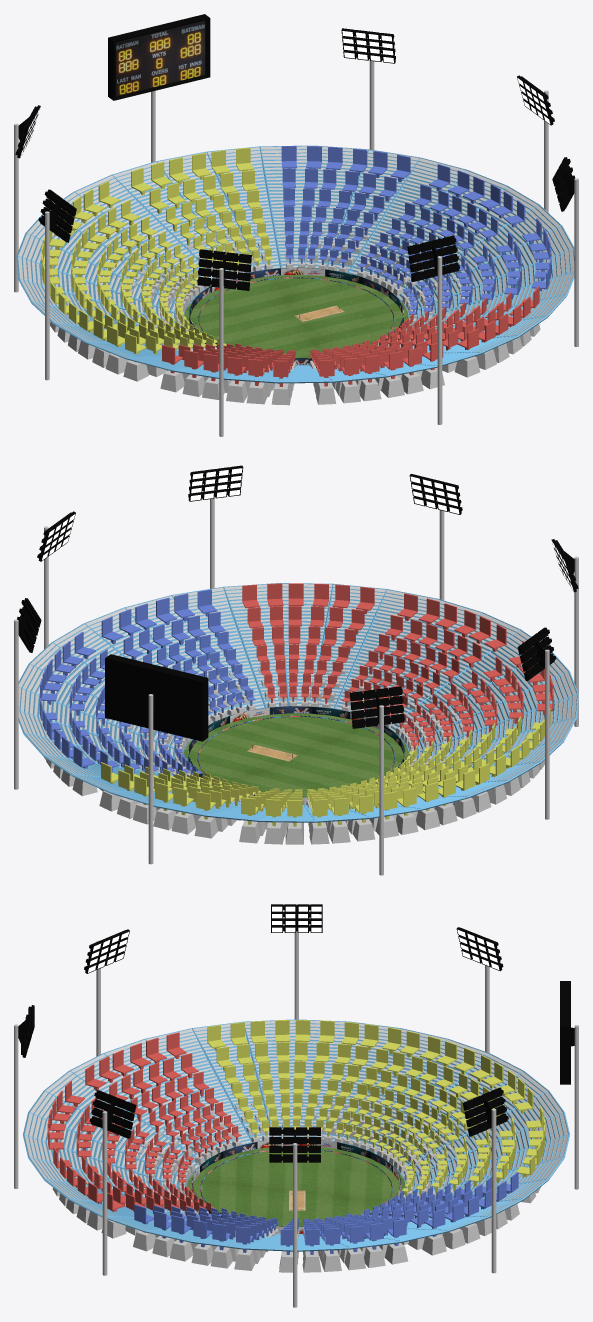
The model's file is cricket_stadium.glb.
The picture shows the model from 3 angles, top to bottom: view 1: azimuth 30°, elevation 25°; view 2: azimuth 150°, elevation 25°; view 3: azimuth 270°, elevation 25°; orthographic projection. The views are drawn at different scales.
Visible parts, largest first — view 1: Chairs, outer area.001, outer area, Ground .009, Cube, Cube.002, Cylinder, Cube.003, Cube.006, Cube.001, Ground .001, Cube.005 (+7 smaller); view 2: Chairs, outer area.001, outer area, Ground .009, Cube, Cube.007, Cube.004, Cylinder, Cube.003, Cube.001, Ground .005, Cube.005 (+7 smaller); view 3: Chairs, outer area.001, outer area, Ground .009, Cube.005, Cylinder, Cube.001, Cube.004, Cube.006, Cube, Cube.007, Cube.002 (+6 smaller).
Boxes of the visible parts, x1,y1,x2,y2 form: Chairs: (41,145,551,405); outer area.001: (16,145,574,383); outer area: (18,146,574,365); Ground .009: (184,275,408,365); Cube: (108,14,210,100); Cube.002: (197,249,251,290); Cylinder: (189,267,403,365); Cube.003: (407,235,459,281); Cube.006: (341,28,395,63); Cube.001: (38,189,76,242); Ground .001: (437,256,442,424); Cube.005: (517,75,554,125); Chairs: (39,583,553,844); outer area.001: (18,583,578,822); outer area: (18,583,576,801); Ground .009: (184,713,409,804); Cube: (105,654,208,741); Cube.007: (350,686,404,728); Cube.004: (188,465,243,501); Cylinder: (188,706,404,804); Cube.003: (409,474,462,514); Cube.001: (517,627,556,680); Ground .005: (148,694,153,864); Cube.005: (37,511,75,561); Chairs: (47,1020,545,1272); outer area.001: (23,1019,569,1251); outer area: (24,1020,568,1229); Ground .009: (187,1146,405,1233); Cube.005: (269,1127,320,1162); Cylinder: (191,1140,401,1233); Cube.001: (271,904,322,932); Cube.004: (89,1090,136,1138); Cube.006: (463,1087,508,1136); Cube: (560,981,574,1084); Cube.007: (456,927,503,971); Cube.002: (84,929,129,973).
Size of the model in its own units: 95.61 by 35.05 by 95.61.
Materials: 17 (5 with a texture image).
